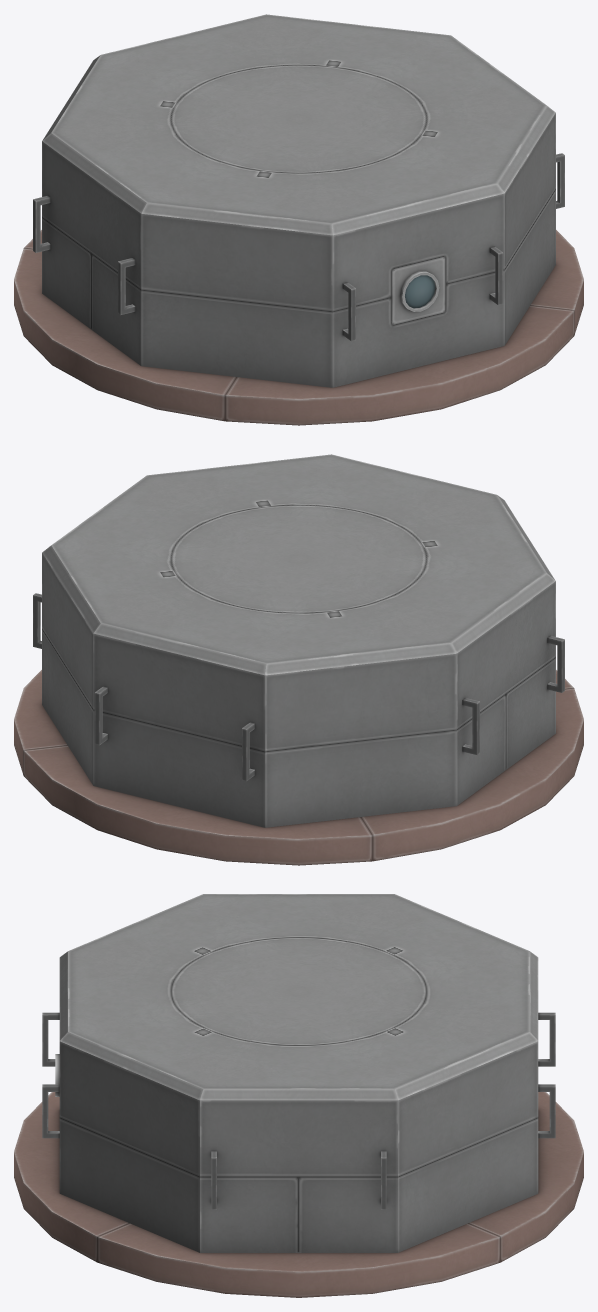
Rendered from Acamar_Lab_2.obj.
3 renders of one model, top to bottom at view 1: azimuth 30°, elevation 25°; view 2: azimuth 150°, elevation 25°; view 3: azimuth 270°, elevation 25°, orthographic.
Parts seen in each view (by area): view 1: Acamar_Lab_2, Acamar_Lab_2_Window; view 2: Acamar_Lab_2; view 3: Acamar_Lab_2.
Part boxes in pixels (x1=…): Acamar_Lab_2: x1=14, y1=14, x2=583, y2=425; Acamar_Lab_2_Window: x1=405, y1=275, x2=435, y2=308; Acamar_Lab_2: x1=14, y1=454, x2=583, y2=865; Acamar_Lab_2: x1=14, y1=894, x2=583, y2=1297.
Size of the model in its own units: 2.5 by 0.9 by 2.5.
